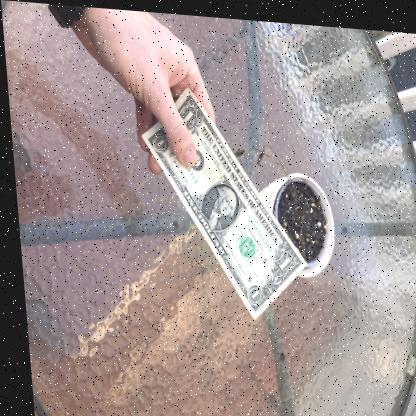dollar_front: (138, 83, 302, 317)
